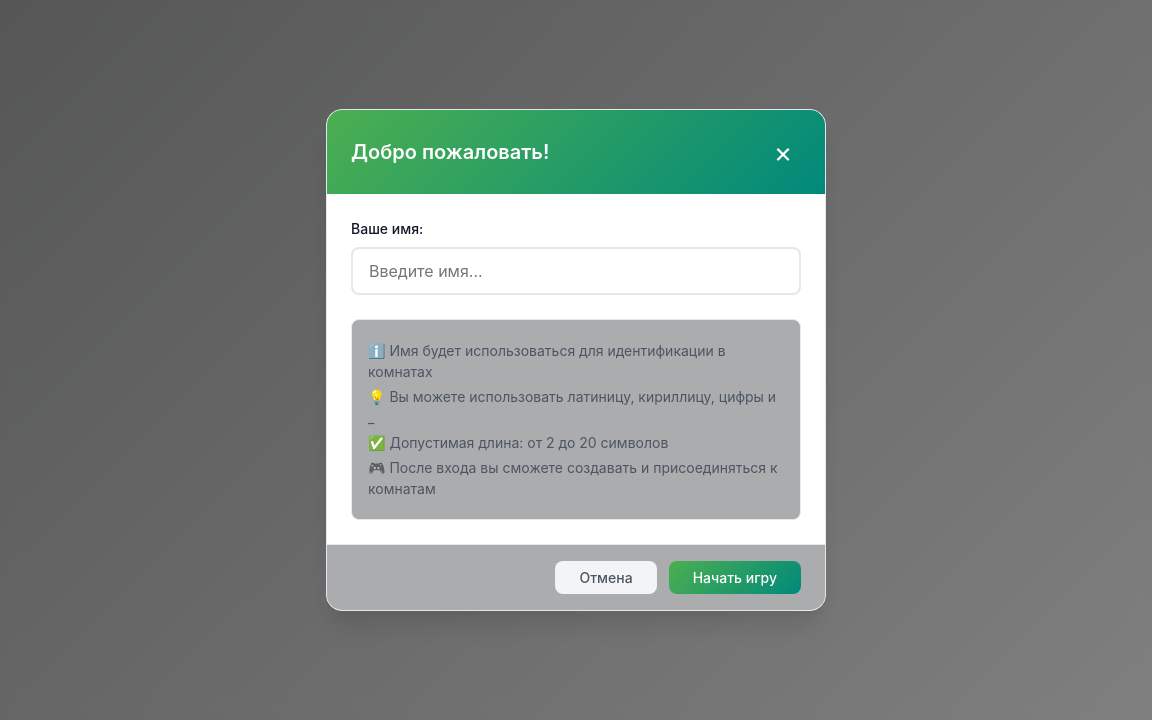
UserModal › validates invalid characters
This screenshot has width=1152, height=720.
In the field labelled "Ваше имя:": (576, 271) left=351, top=247, right=801, bottom=295, type "test@name"
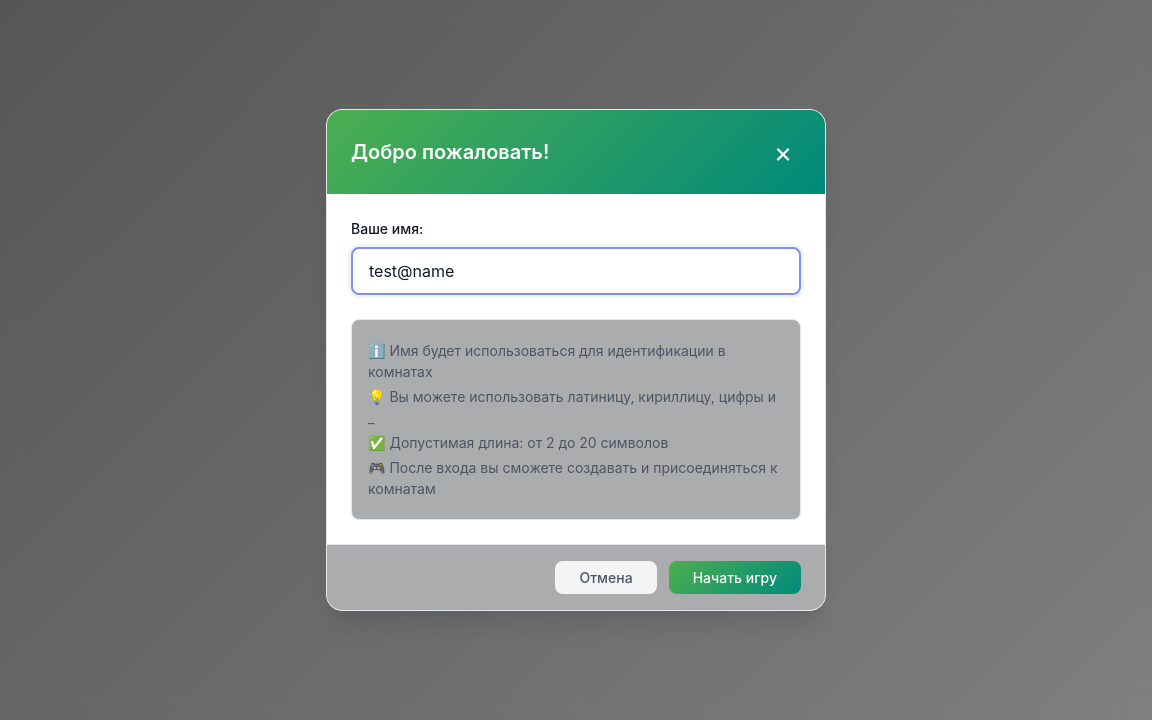
Click the button "Начать игру": (735, 578) left=669, top=561, right=801, bottom=594
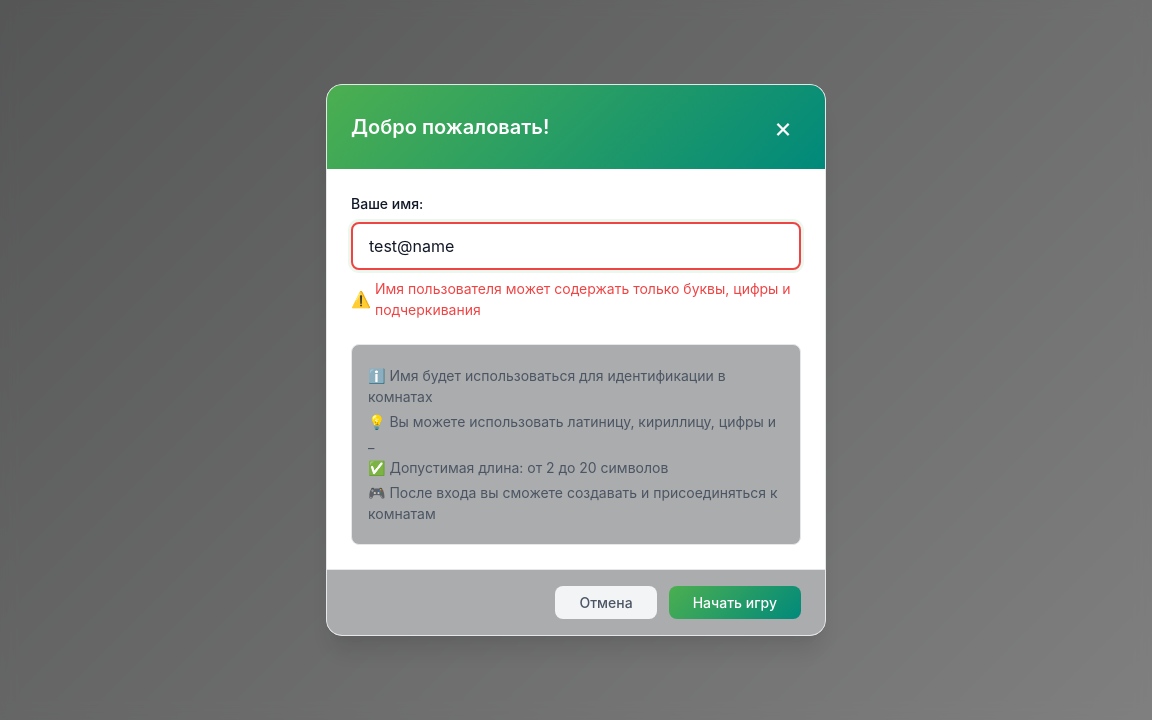
expect the text "только буквы, цифры и подчеркивания" is shown: met, box left=375, top=280, right=791, bottom=318
